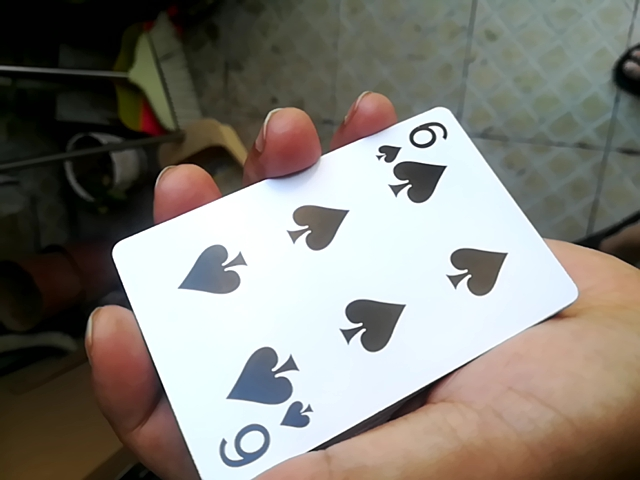ht 6: (97, 95, 584, 480)
